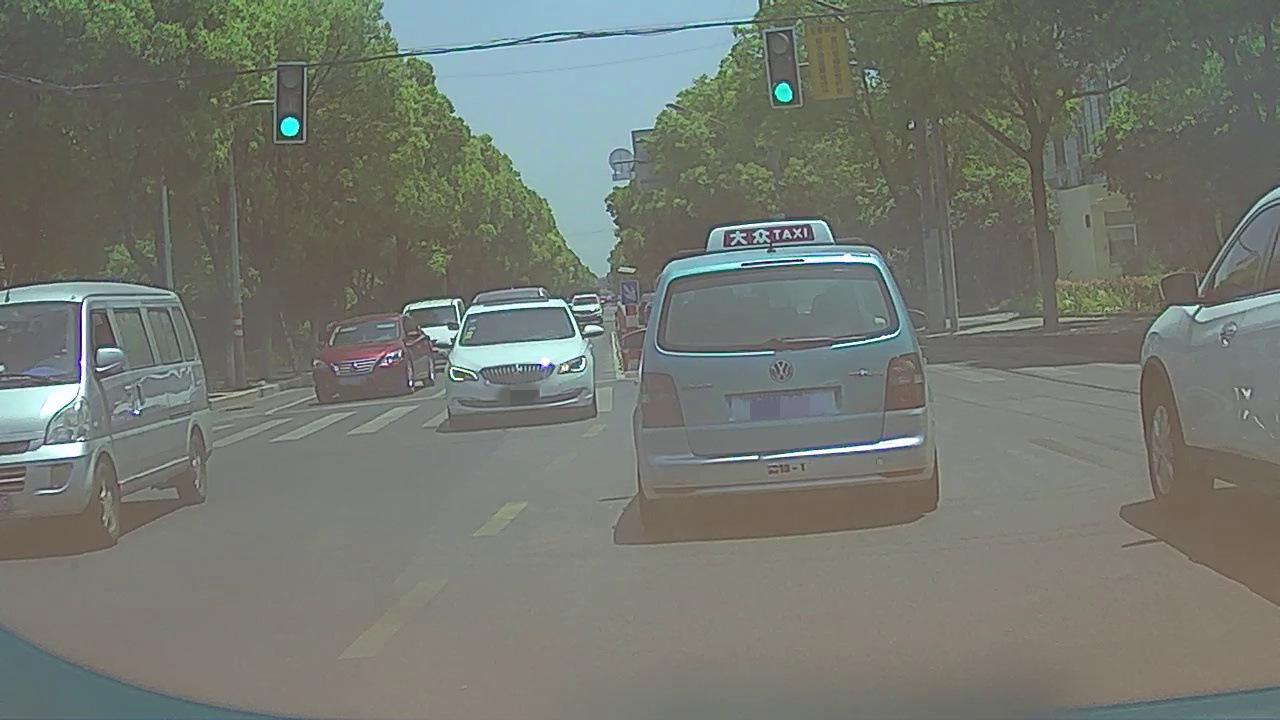traffic_light: (767, 30, 799, 107), (280, 64, 306, 139)
